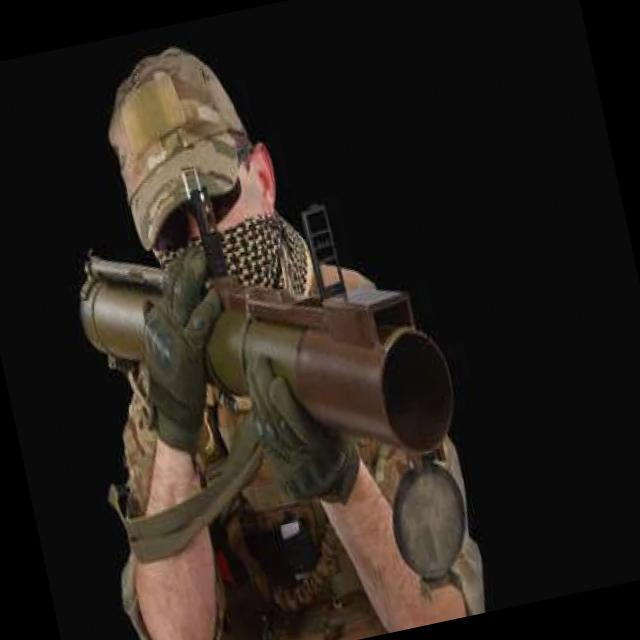rocket: (70, 188, 462, 524)
